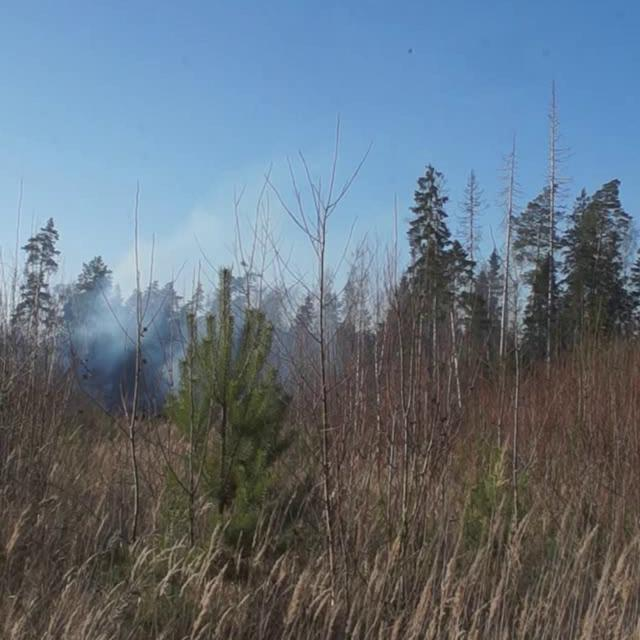Smoke: (71, 206, 352, 420)
